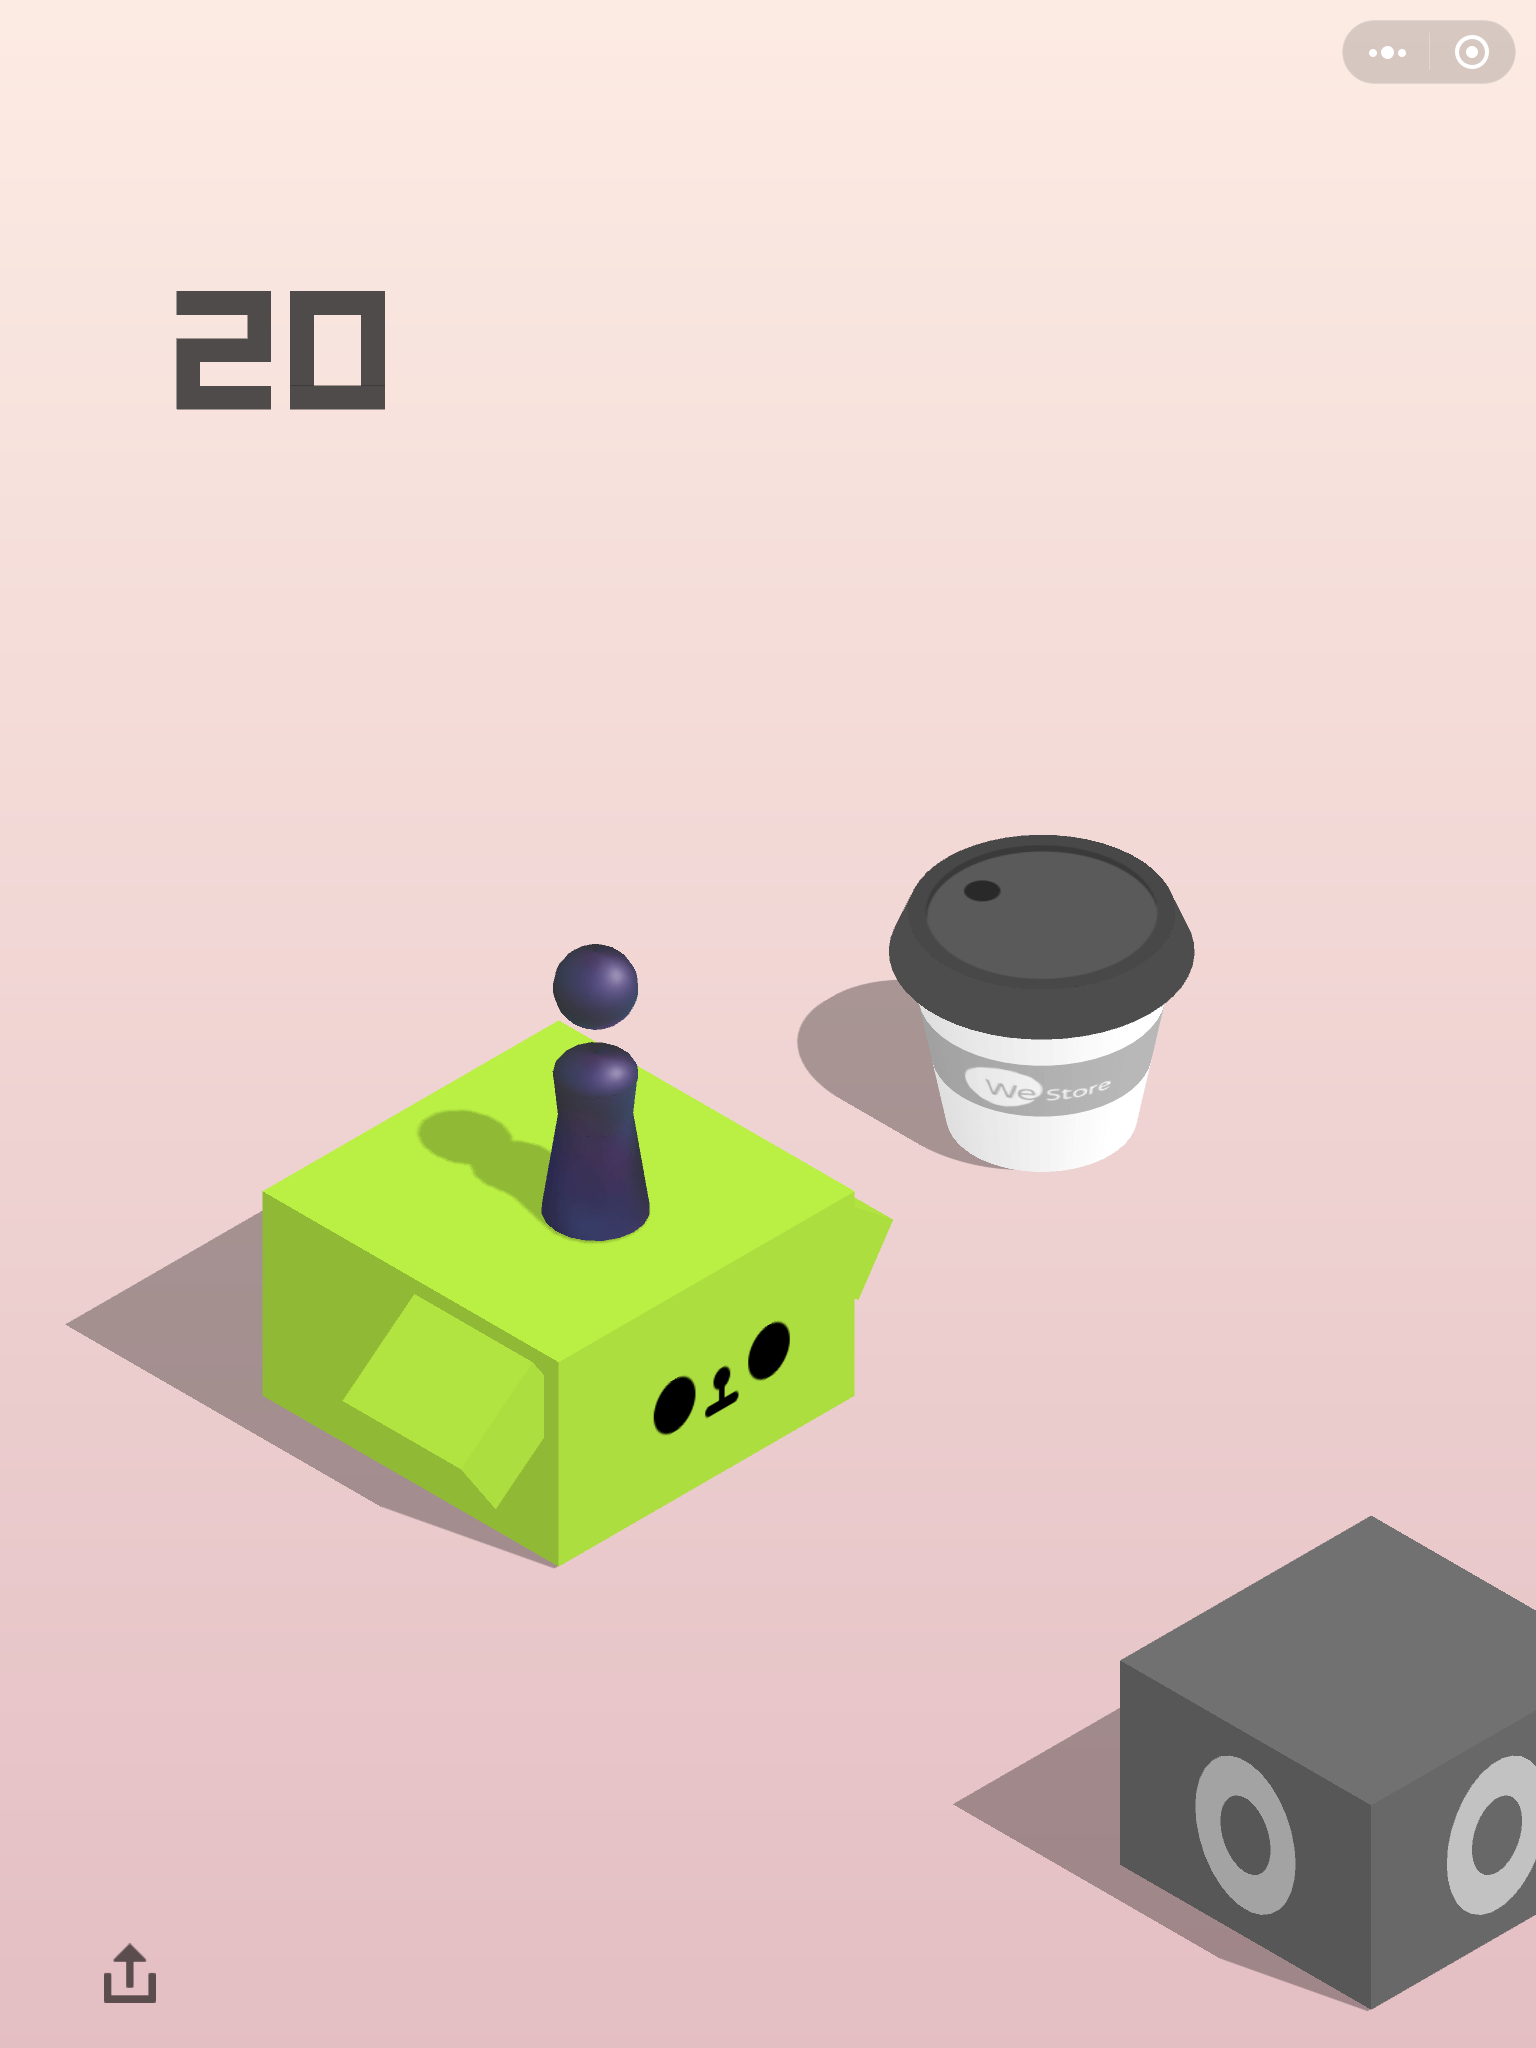c: (886, 832, 1204, 1184)
f: (252, 1013, 891, 1579), (1117, 1511, 1536, 2013)
r: (536, 937, 653, 1247)
